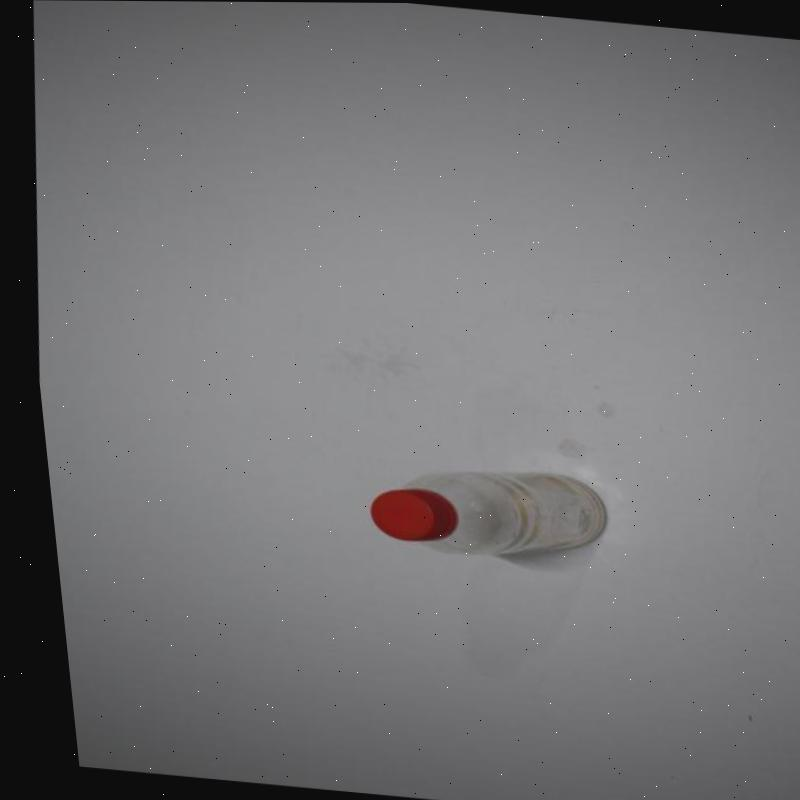botella: (351, 455, 605, 566)
